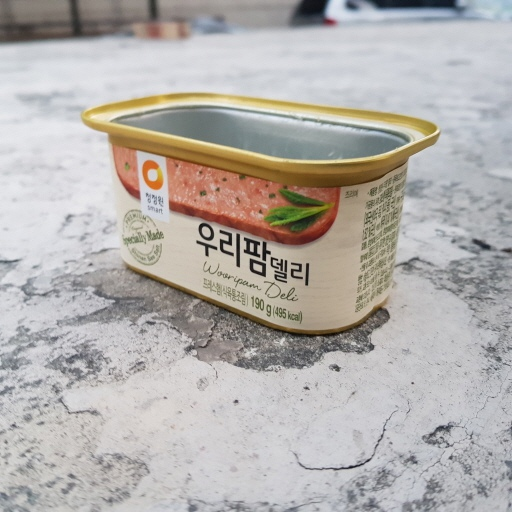Metal_2: (78, 90, 441, 336)
